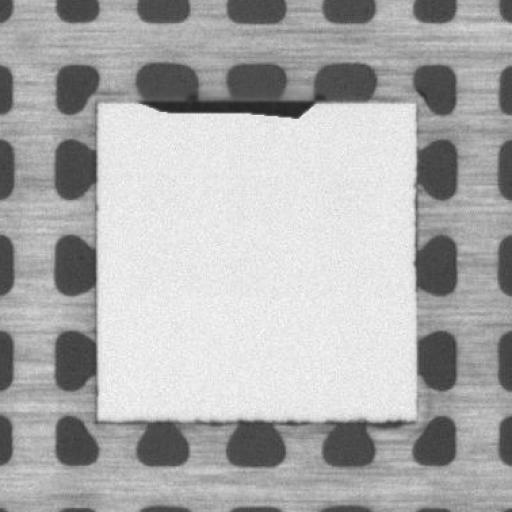DIE_BROKEN: (133, 93, 318, 122)
